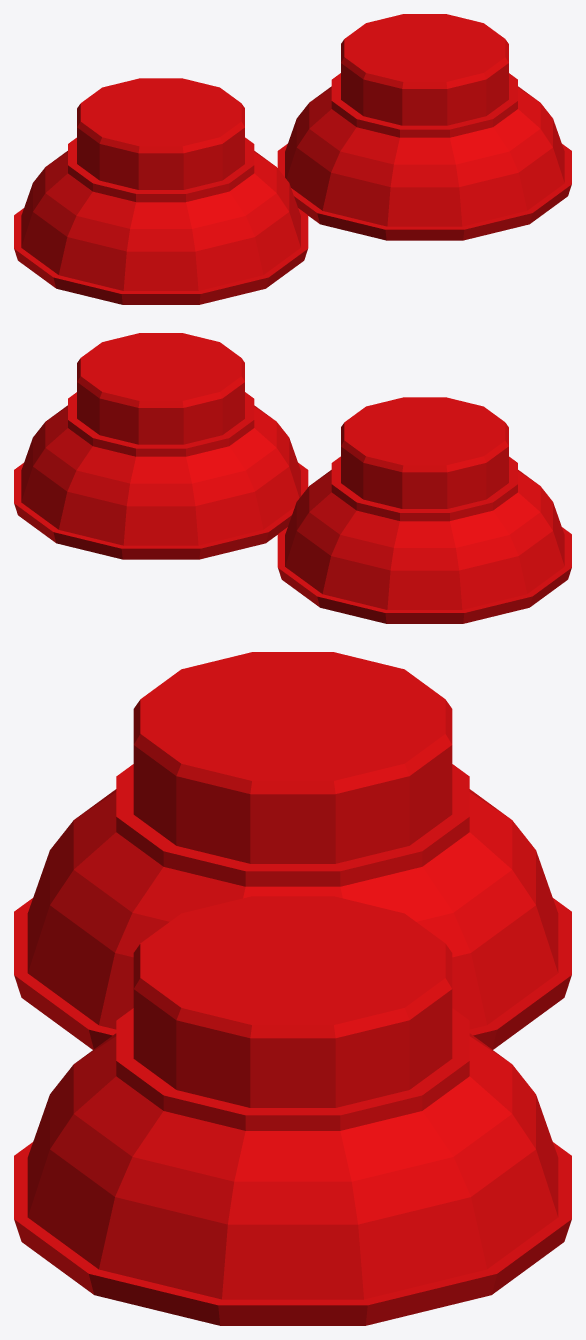
Rendered from Lamp.fbx.
3 renders of one model, top to bottom at view 1: azimuth 30°, elevation 25°; view 2: azimuth 150°, elevation 25°; view 3: azimuth 270°, elevation 25°, orthographic. The views are drawn at different scales.
Visible parts, largest first — view 1: ServingLamps; view 2: ServingLamps; view 3: ServingLamps.
Part boxes in pixels (x1,y1,x2,y2): ServingLamps: [14, 14, 571, 304]; ServingLamps: [14, 333, 571, 623]; ServingLamps: [14, 652, 571, 1325].
Size of the model in its own units: 157 by 38.28 by 77.27.
